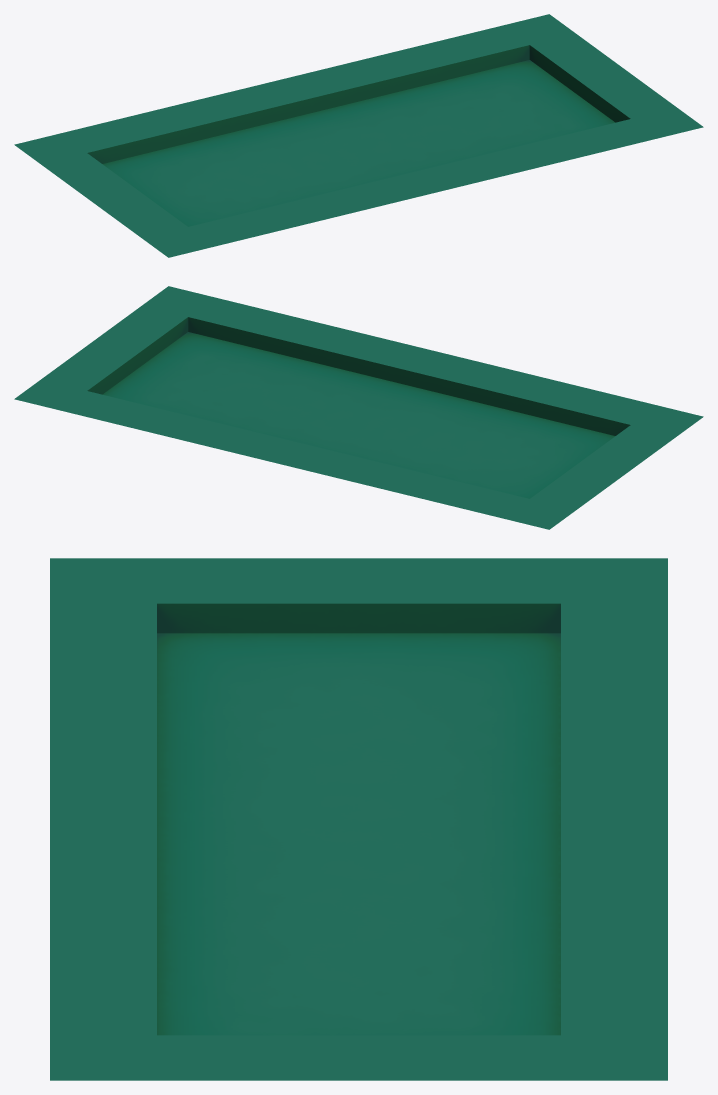
The model's file is tile09.fbx.
3 renders of one model, top to bottom at view 1: azimuth 30°, elevation 25°; view 2: azimuth 150°, elevation 25°; view 3: azimuth 270°, elevation 25°, orthographic. The views are drawn at different scales.
Visible parts, largest first — view 1: tile09_geo; view 2: tile09_geo; view 3: tile09_geo.
Part boxes in pixels (x1,y1,x2,y2): tile09_geo: (14, 14, 703, 257); tile09_geo: (14, 286, 703, 529); tile09_geo: (50, 558, 667, 1080).
Bounding box in the file's own units: 200 × 5.3 × 100.
1 material, 1 textured.
